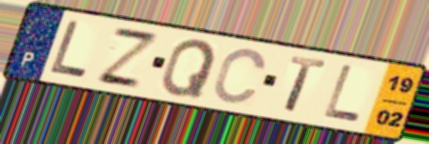C: (210, 47, 270, 106)
L: (47, 18, 91, 82), (321, 63, 364, 125)
Q: (159, 37, 220, 99)
T: (282, 53, 329, 116)
Z: (92, 24, 163, 92)
